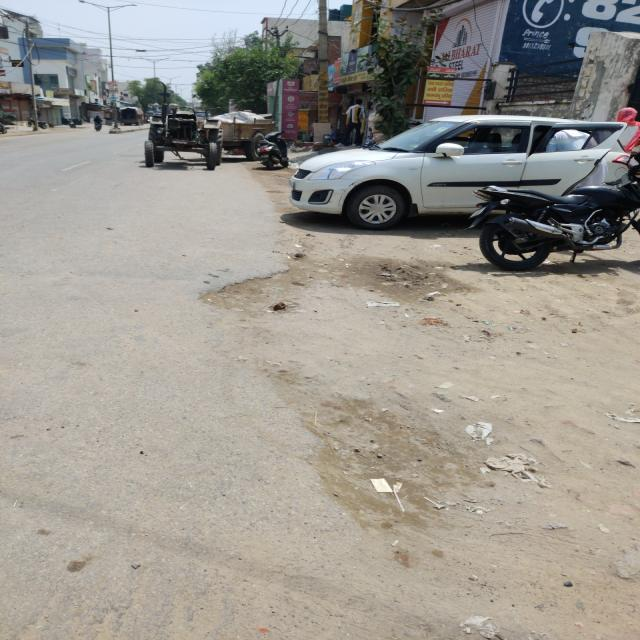Bike: (459, 166, 640, 273), (254, 128, 296, 174), (24, 115, 44, 125), (94, 114, 105, 131), (66, 118, 76, 132)
Car: (287, 100, 640, 220)
Truck: (118, 106, 146, 125)
tractor: (146, 89, 266, 168)
